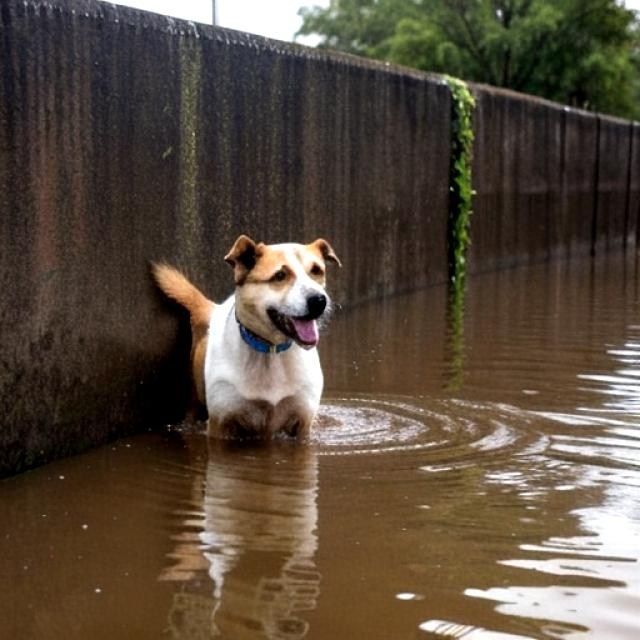dog: (137, 228, 354, 450)
